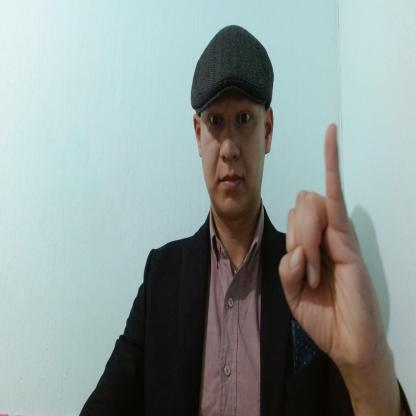I: (277, 120, 381, 366)
